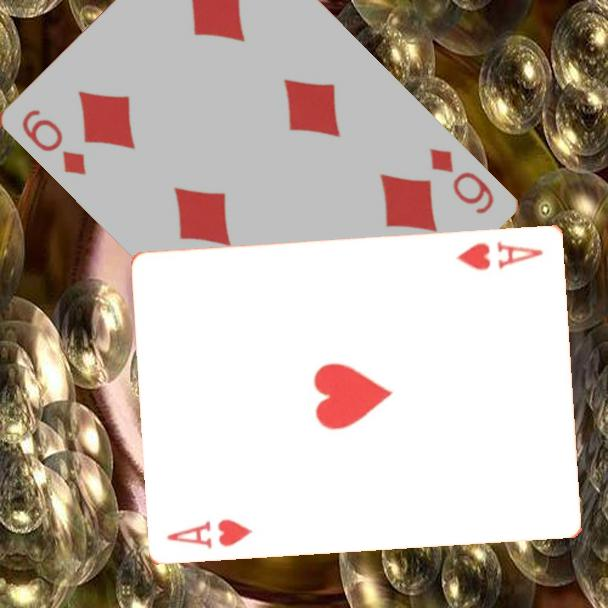d06: (17, 106, 89, 178), (425, 144, 496, 217)
h01: (453, 237, 546, 273), (164, 515, 256, 551)
